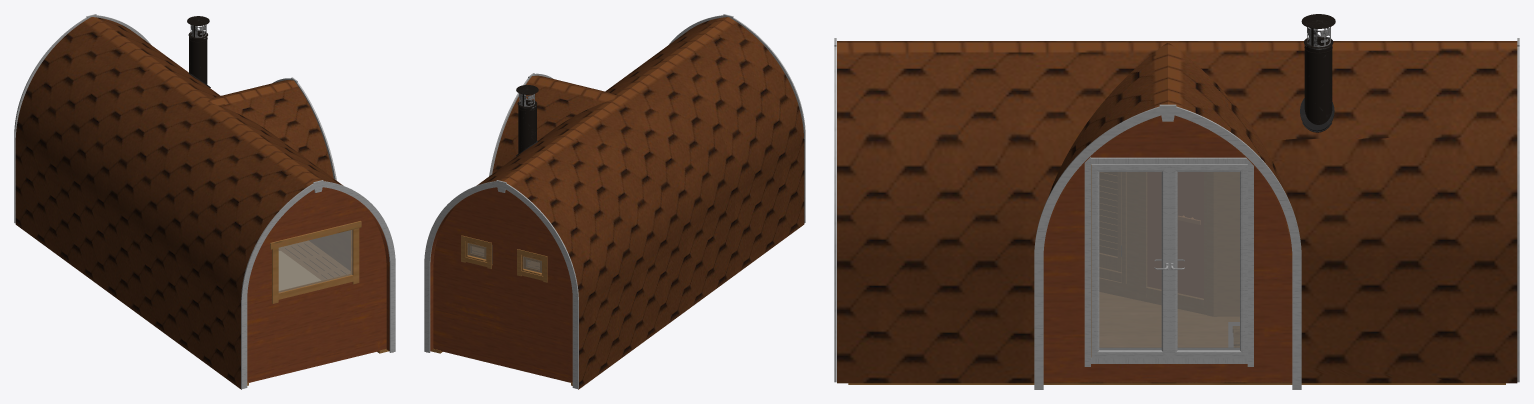
3 views of the same model, side by side, from view 1: azimuth 30°, elevation 25°; view 2: azimuth 150°, elevation 25°; view 3: azimuth 270°, elevation 25° (orthographic). The views are drawn at different scales.
Parts seen in each view (by area): view 1: banya_new_ready, Box 1; view 2: banya_new_ready, Box 2; view 3: banya_new_ready, Box.
Part boxes in pixels (x1=…): banya_new_ready: x1=14, y1=14, x2=395, y2=389; Box 1: x1=278, y1=230, x2=352, y2=292; banya_new_ready: x1=424, y1=14, x2=805, y2=389; Box 2: x1=467, y1=243, x2=541, y2=272; banya_new_ready: x1=834, y1=14, x2=1519, y2=389; Box: x1=1099, y1=172, x2=1239, y2=350.
Bounding box in the file's own units: 2 × 2.62 × 4.8.
Materials: 6 (3 with a texture image).
